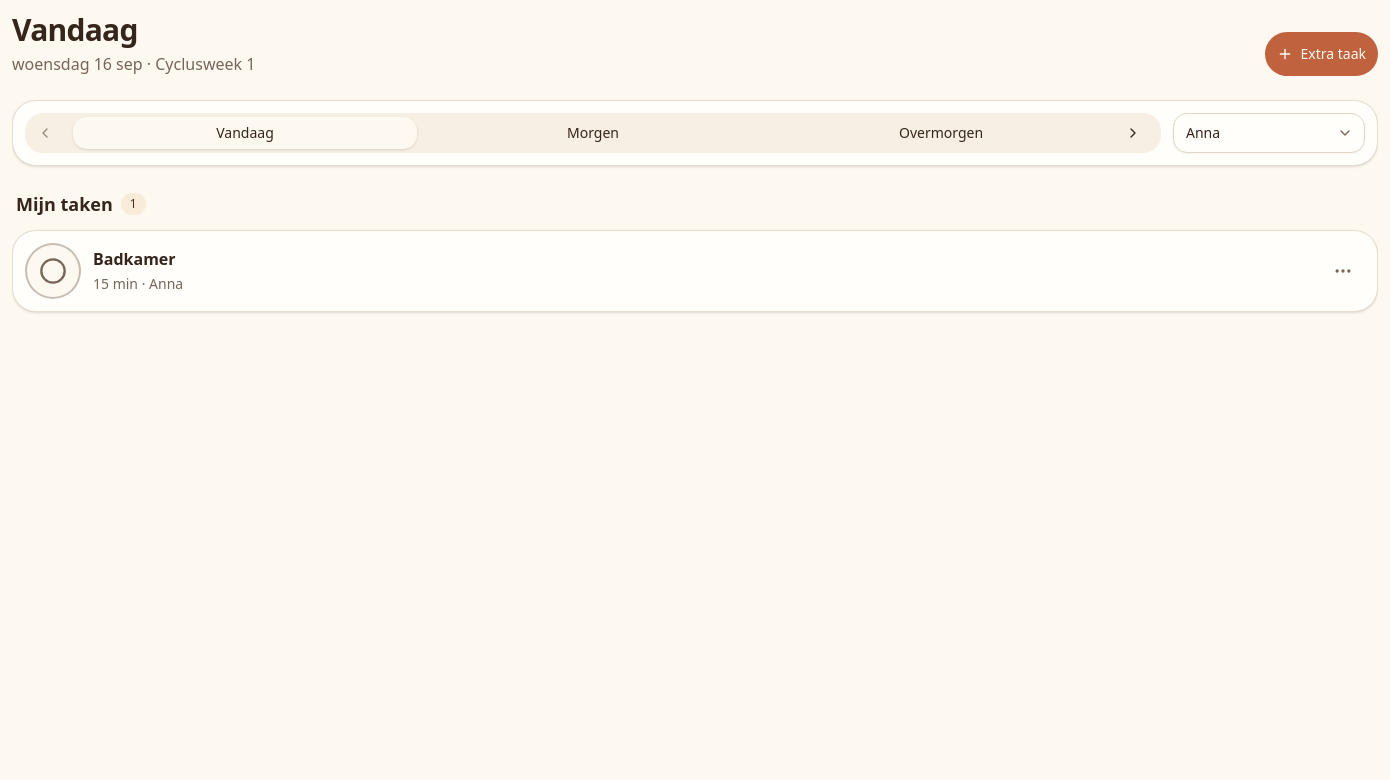
offline check-off › keeps a check-off made offline and sends it as the same profile once back online
This screenshot has width=1390, height=780.
Step 1. Click the button named "Afvinken: Badkamer" → (53, 271), box [25, 243, 81, 299]
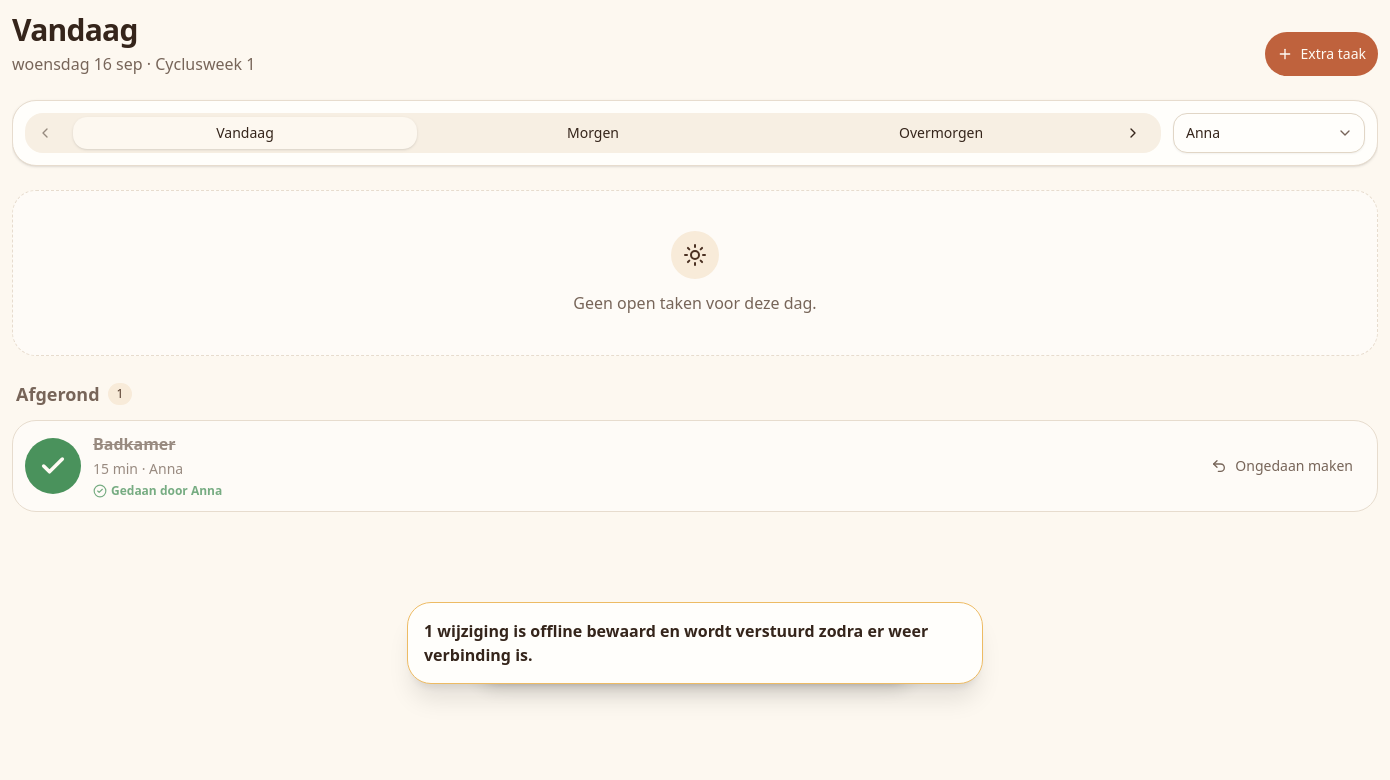
Expected: the text "Badkamer" is shown, [93, 433, 176, 455]
Expected: the text "1 wijziging is offline bewaard en wordt verstuurd zodra er weer verbinding is." is shown, [407, 602, 983, 684]
